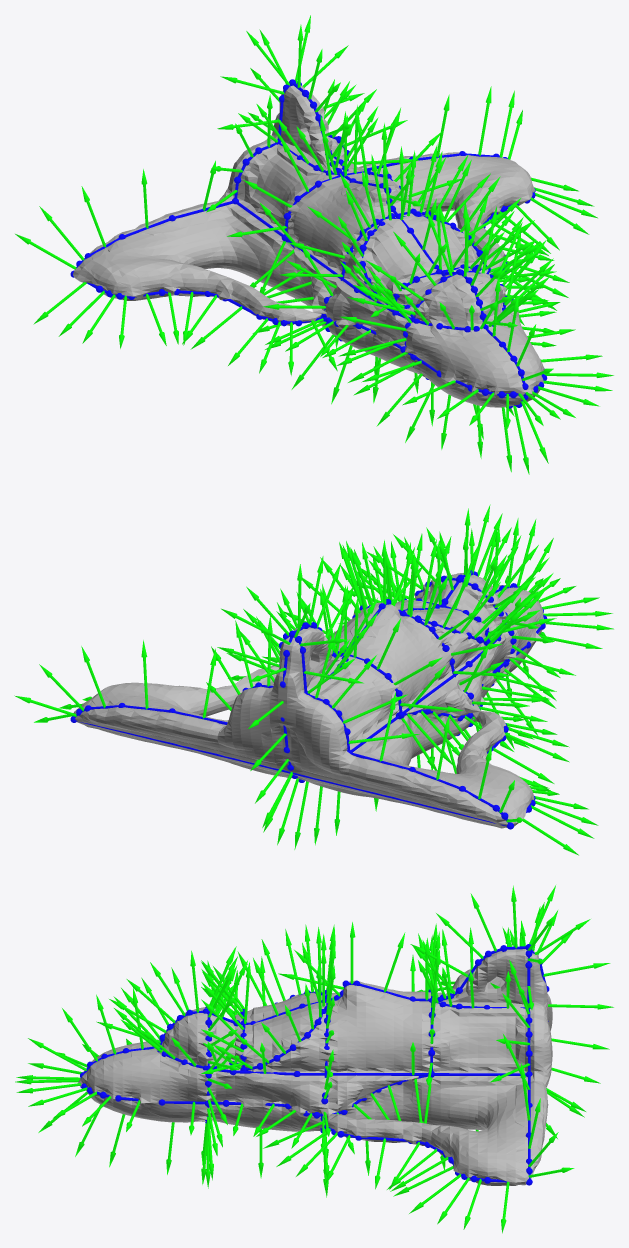
File: t2f_fighter.gltf
The picture shows the model from 3 angles, top to bottom: view 1: azimuth 30°, elevation 25°; view 2: azimuth 150°, elevation 25°; view 3: azimuth 270°, elevation 25°; orthographic projection. The views are drawn at different scales.
Size of the model in its own units: 0.8704 by 0.4672 by 0.8645.
